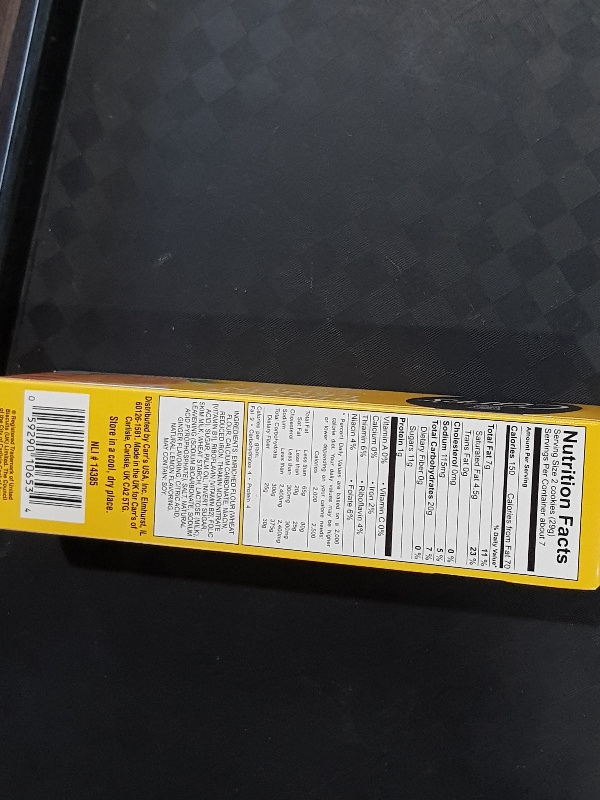Carr's Ginger Lemon Cremes: (1, 368, 600, 594)
